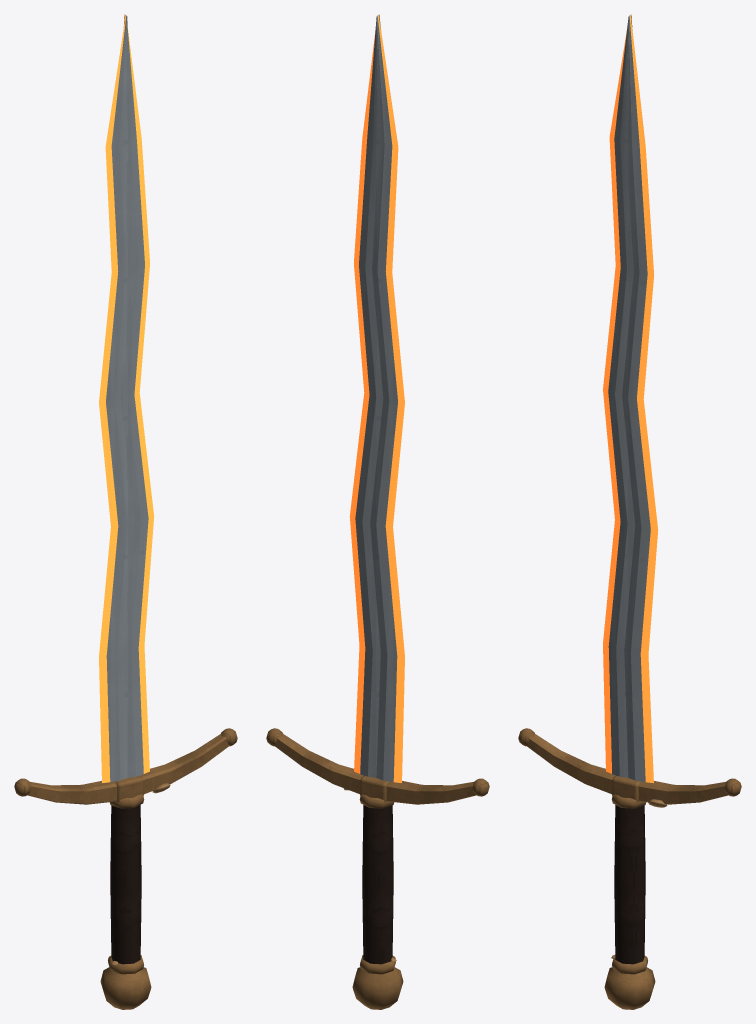
File: flame-sword.lod2.glb
3 renders of one model, left to right at view 1: azimuth 30°, elevation 25°; view 2: azimuth 150°, elevation 25°; view 3: azimuth 330°, elevation 25°, orthographic.
Parts seen in each view (by area): view 1: steel / forged blade steel, energy / emissive field channel, bronze / cast bronze with patina, leather / oiled leather wrap; view 2: steel / forged blade steel, energy / emissive field channel, bronze / cast bronze with patina, leather / oiled leather wrap; view 3: steel / forged blade steel, energy / emissive field channel, bronze / cast bronze with patina, leather / oiled leather wrap.
Boxes of the visible parts, <box> form: steel / forged blade steel: <box>106,14,148,782</box>; energy / emissive field channel: <box>99,15,154,783</box>; bronze / cast bronze with patina: <box>14,728,237,1009</box>; leather / oiled leather wrap: <box>110,805,141,964</box>; steel / forged blade steel: <box>355,14,397,782</box>; energy / emissive field channel: <box>349,15,404,783</box>; bronze / cast bronze with patina: <box>266,728,489,1009</box>; leather / oiled leather wrap: <box>362,805,393,964</box>; steel / forged blade steel: <box>608,14,650,782</box>; energy / emissive field channel: <box>603,15,658,783</box>; bronze / cast bronze with patina: <box>518,728,741,1009</box>; leather / oiled leather wrap: <box>614,805,645,964</box>.
Bounding box in the file's own units: 0.2798 × 1.2 × 0.0578.
5 materials, 3 textured.
